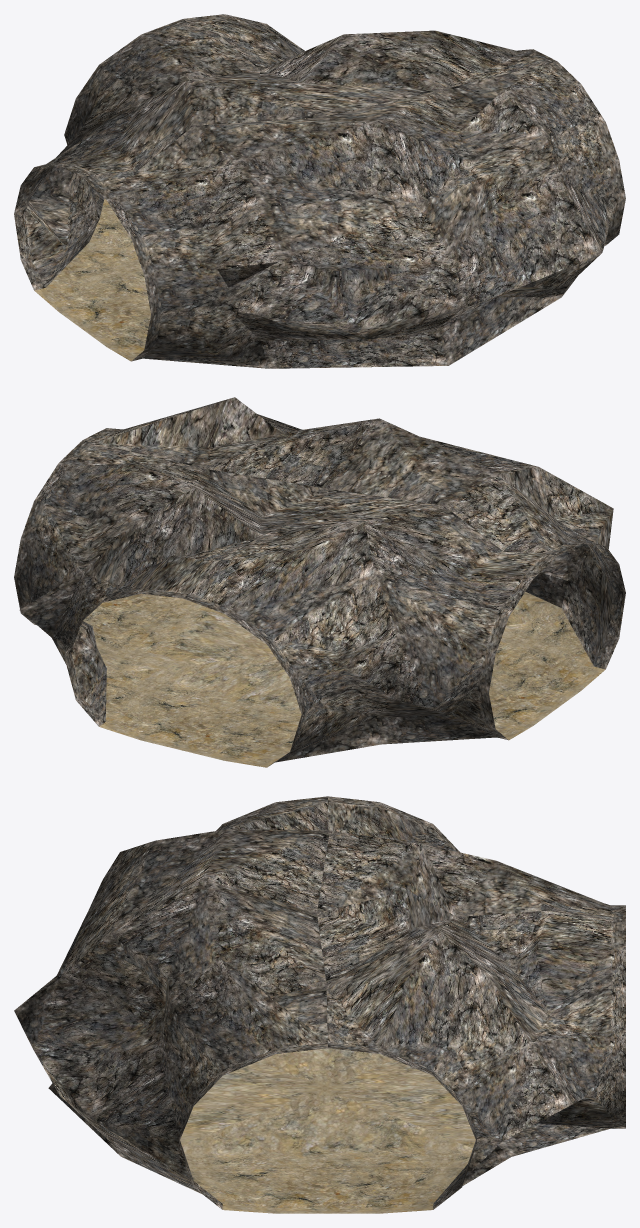
File: pir_m_are_cav_threeway200.fbx
3 renders of one model, top to bottom at view 1: azimuth 30°, elevation 25°; view 2: azimuth 150°, elevation 25°; view 3: azimuth 270°, elevation 25°, orthographic. The views are drawn at different scales.
Parts seen in each view (by area): view 1: threeway200_wall, threeway200_floor; view 2: threeway200_wall, threeway200_floor; view 3: threeway200_wall, threeway200_floor.
Part boxes in pixels (left/top/right/bottom): threeway200_wall: left=14, top=14, right=625, bottom=368; threeway200_floor: left=34, top=198, right=150, bottom=361; threeway200_wall: left=14, top=397, right=625, bottom=765; threeway200_floor: left=83, top=592, right=605, bottom=767; threeway200_wall: left=14, top=796, right=625, bottom=1209; threeway200_floor: left=180, top=1048, right=475, bottom=1213.
Size of the model in its own units: 20000 by 7707 by 20535.
Materials: 2 (2 with a texture image).
